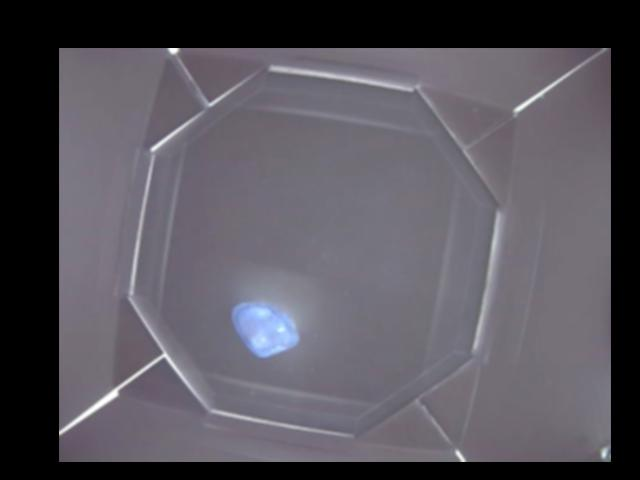Pebble: (232, 300, 298, 359)
